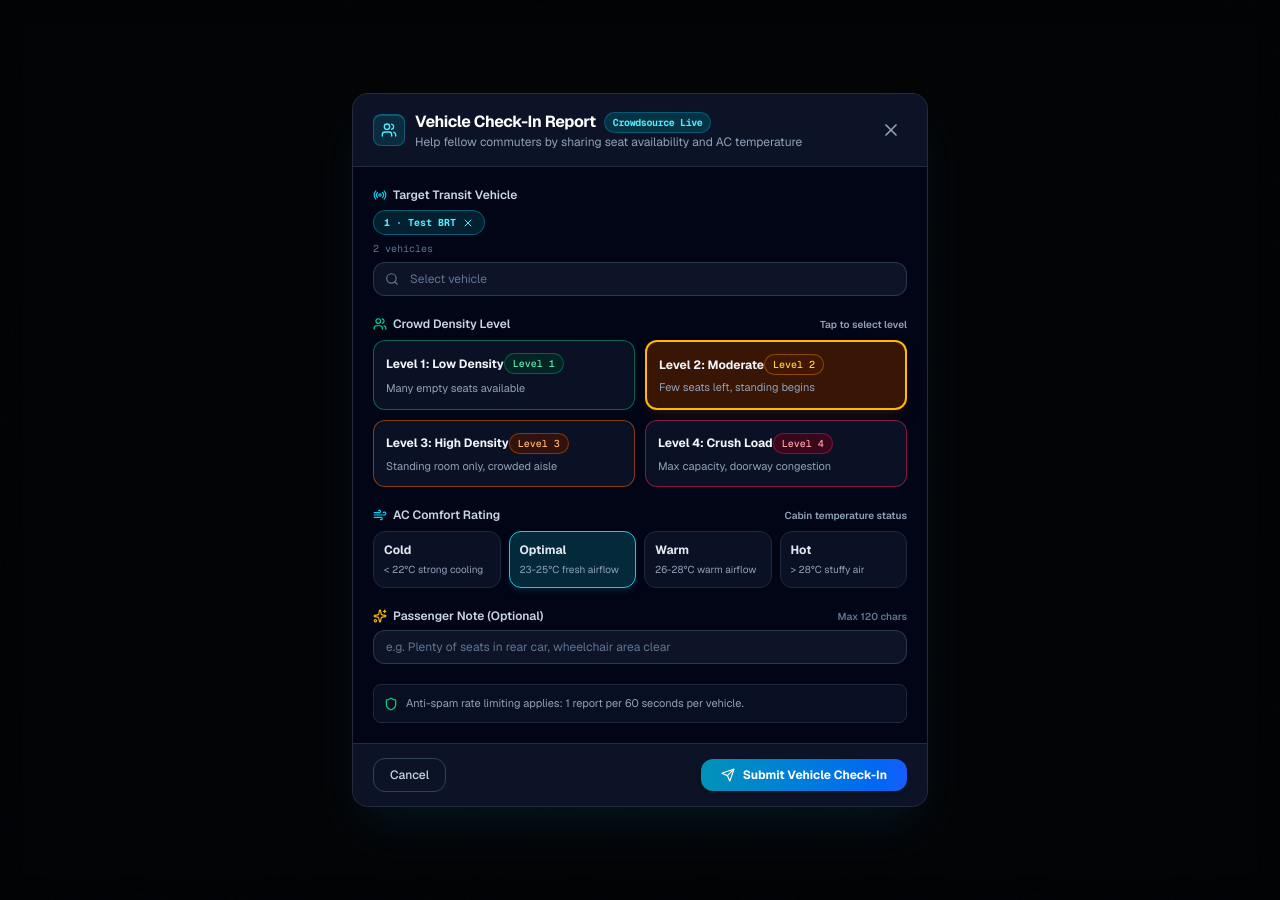
Test: crowd vehicle combobox › scopes to the line with a removable chip and live count
Expected: the dialog is shown, [352, 93, 928, 807]
Expected: the text "2 vehicles" is shown, [373, 242, 433, 255]
Click the button with aria-label "Clear line scope".
click(429, 223)  # box [373, 210, 485, 235]
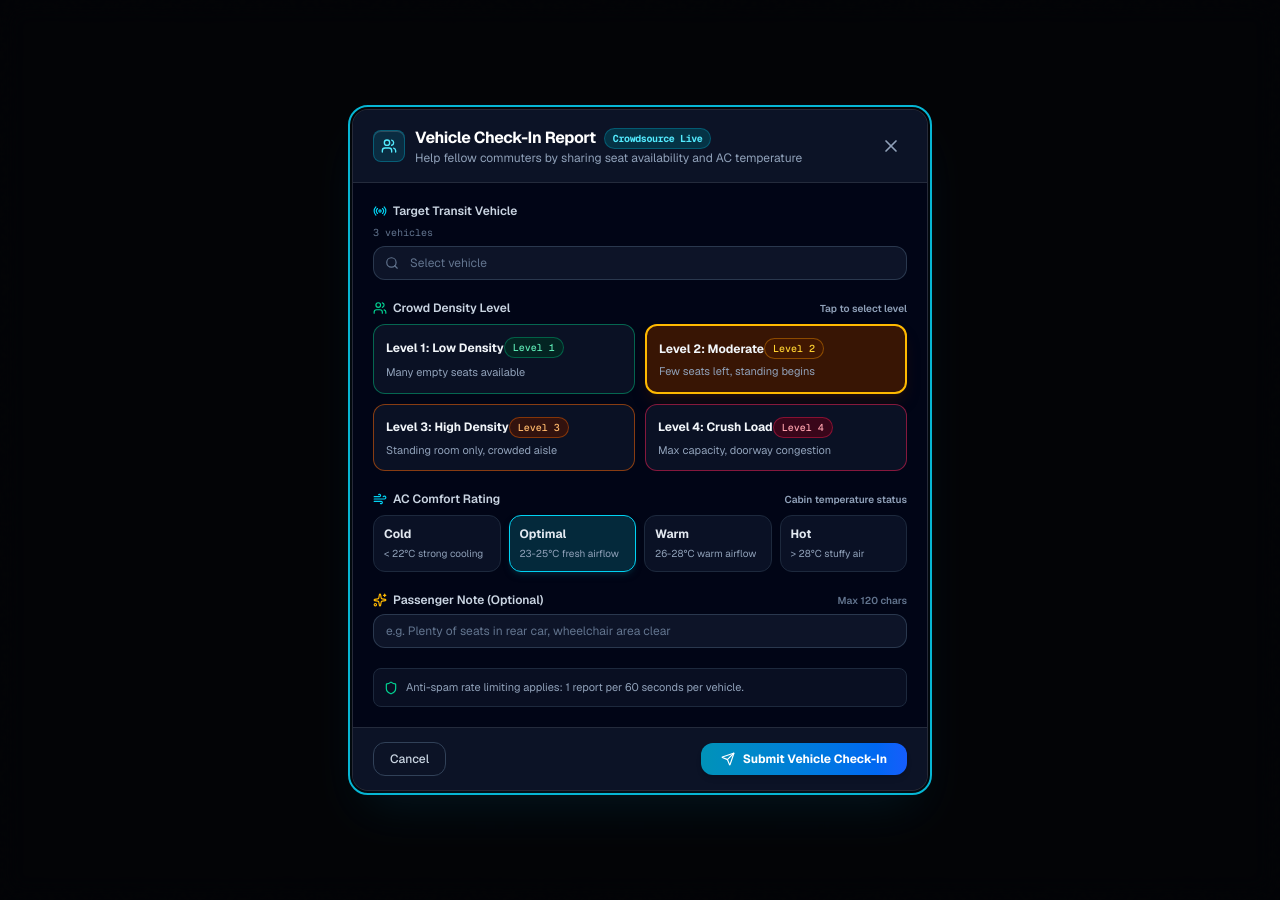
Expected: the dropdown labelled "Target Transit Vehicle" is shown, [373, 246, 907, 280]
Expected: the text "3 vehicles" is shown, [373, 226, 433, 239]
